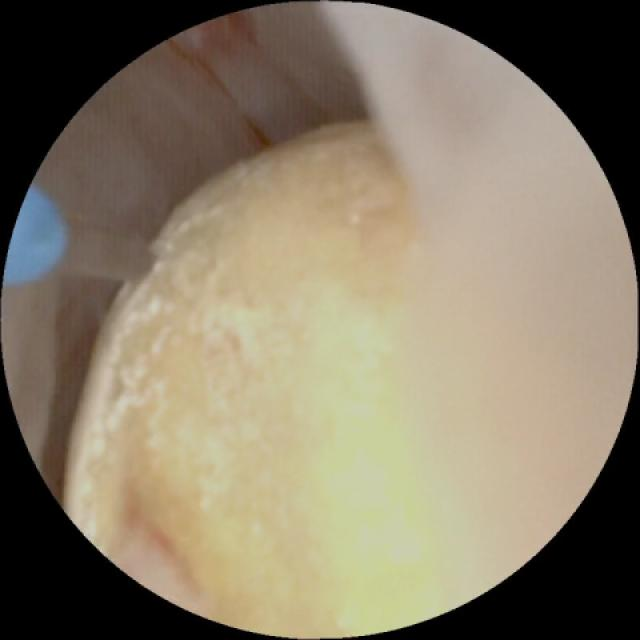fiber: (7, 189, 64, 280)
stone: (60, 130, 461, 628)
tissue: (8, 9, 344, 453)
